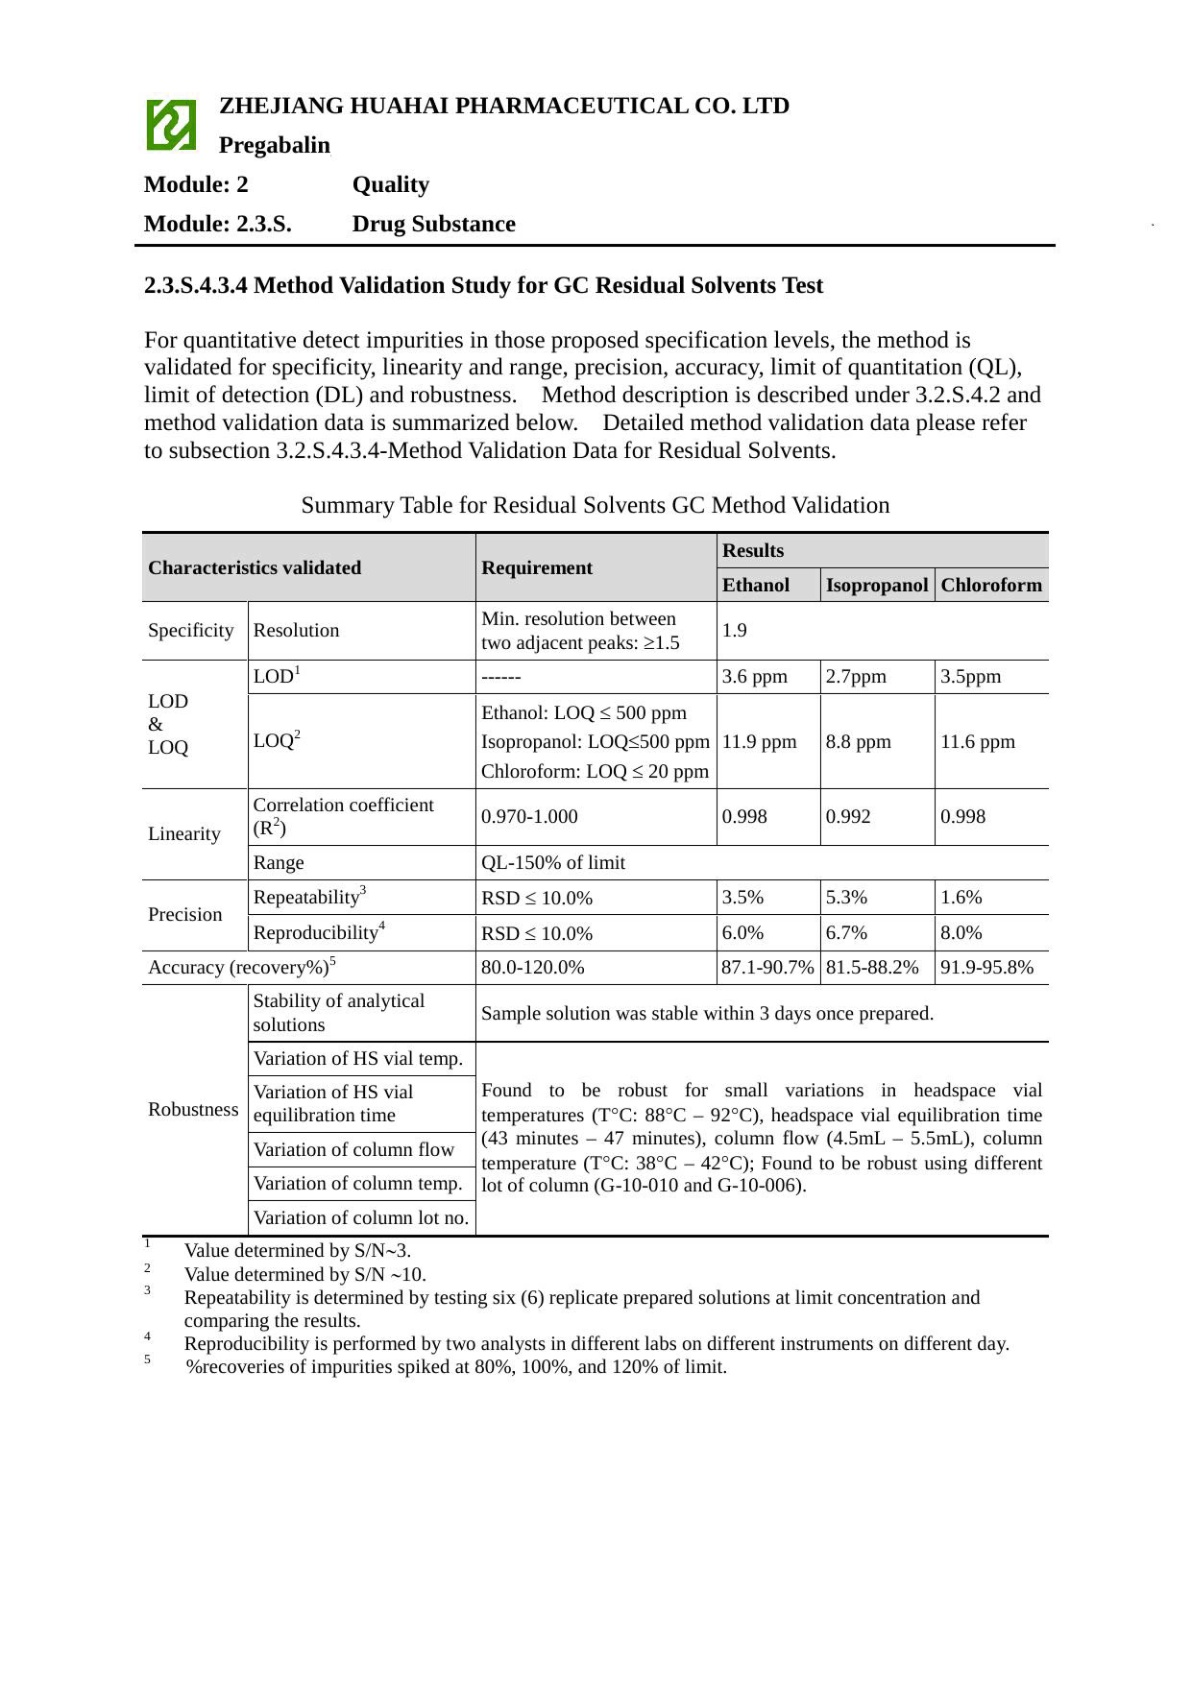partial_lined_merged_cells: (141, 529, 1051, 1240)
